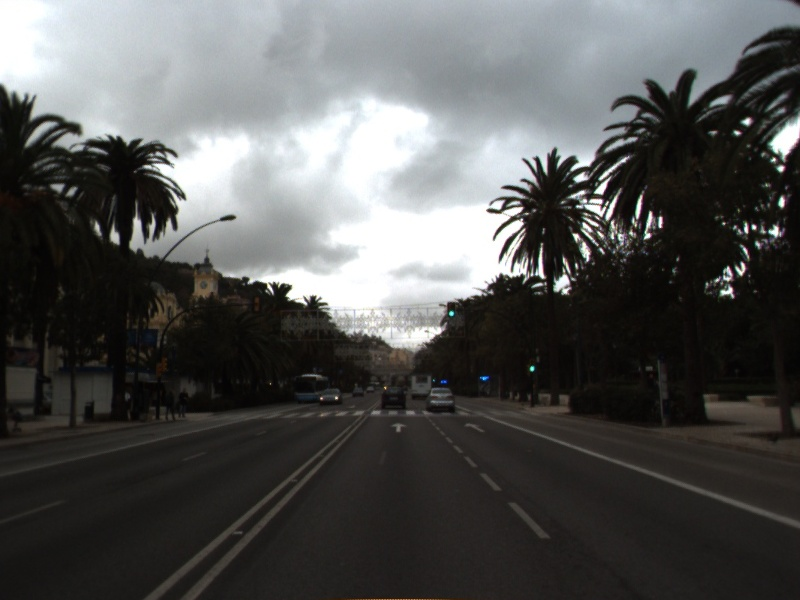STRAIGHT: (462, 420, 487, 434), (388, 420, 409, 434)
